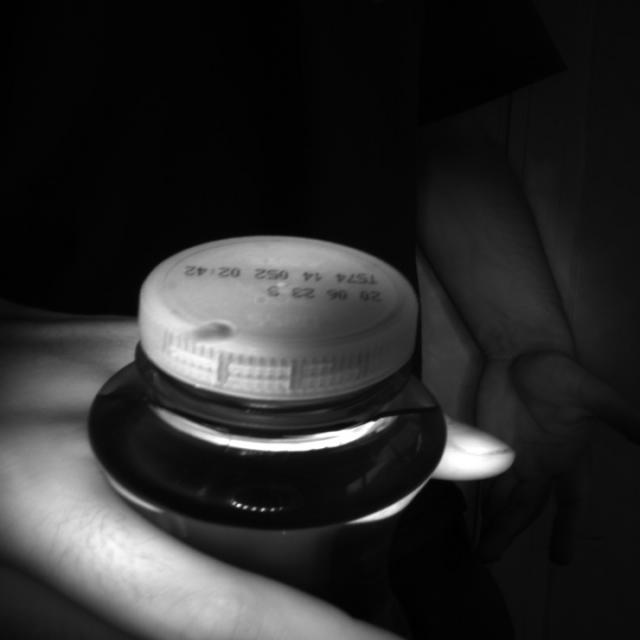Not Good: (133, 236, 420, 427)
